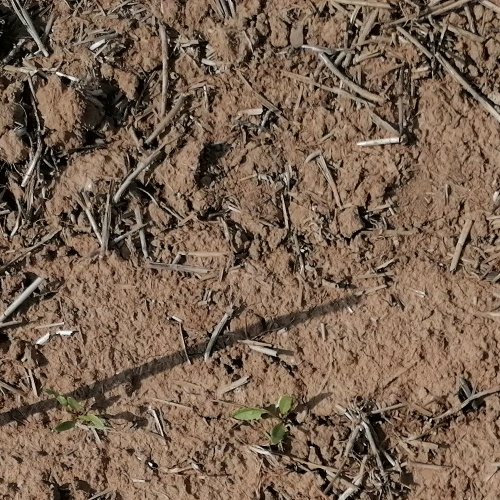beet: (235, 397, 294, 445), (54, 396, 107, 431)
